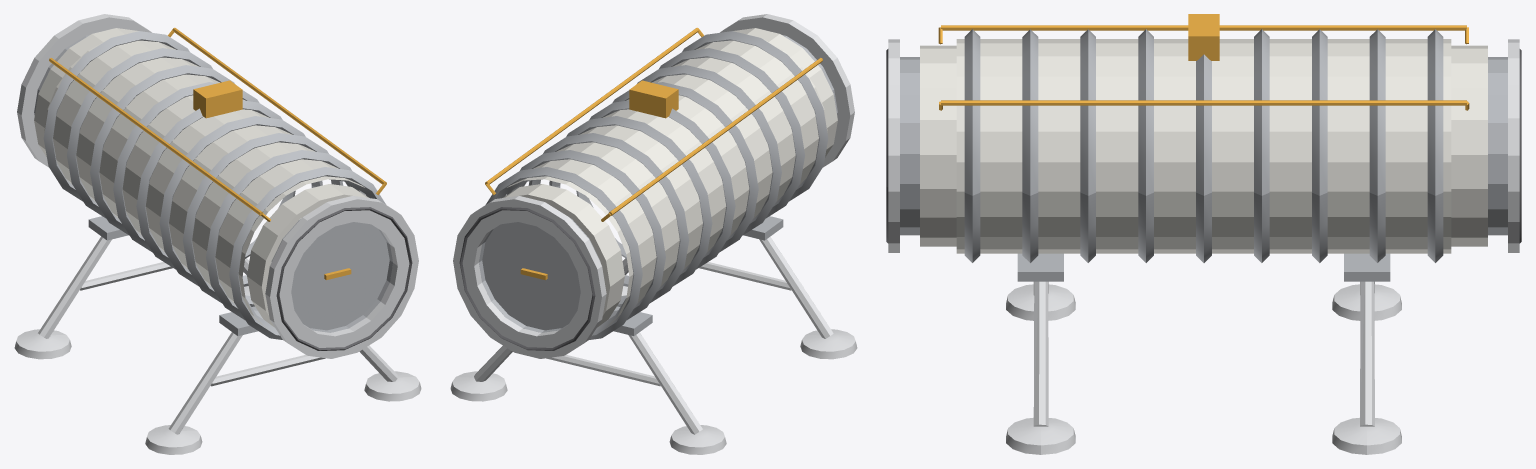
File: connecting-tunnel-stra-cf36f8da.glb
The picture shows the model from 3 angles, left to right: view 1: azimuth 30°, elevation 25°; view 2: azimuth 150°, elevation 25°; view 3: azimuth 270°, elevation 25°; orthographic projection. The views are drawn at different scales.
Visible parts, largest first — view 1: connecting-tunnel-straight; view 2: connecting-tunnel-straight; view 3: connecting-tunnel-straight.
Part boxes in pixels (left/top/right/bottom): connecting-tunnel-straight: left=14, top=14, right=421, bottom=454; connecting-tunnel-straight: left=450, top=14, right=857, bottom=454; connecting-tunnel-straight: left=886, top=14, right=1521, bottom=454.
Size of the model in its own units: 3.68 by 3.67 by 6.04.
